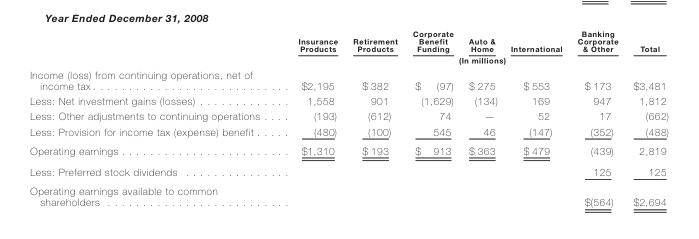table: (29, 28, 667, 207)
table column: (29, 28, 278, 207), (278, 28, 344, 207), (503, 28, 569, 207), (344, 28, 404, 207), (404, 28, 460, 207), (569, 28, 625, 207), (460, 28, 503, 207), (625, 28, 667, 207)
table column header: (29, 28, 667, 66)
table row: (29, 66, 667, 93), (29, 180, 667, 207), (29, 28, 667, 54), (29, 140, 667, 160), (29, 160, 667, 180), (29, 123, 667, 140), (29, 93, 667, 108), (29, 108, 667, 123), (29, 54, 667, 66)
table spanning cell: (278, 54, 667, 66)
